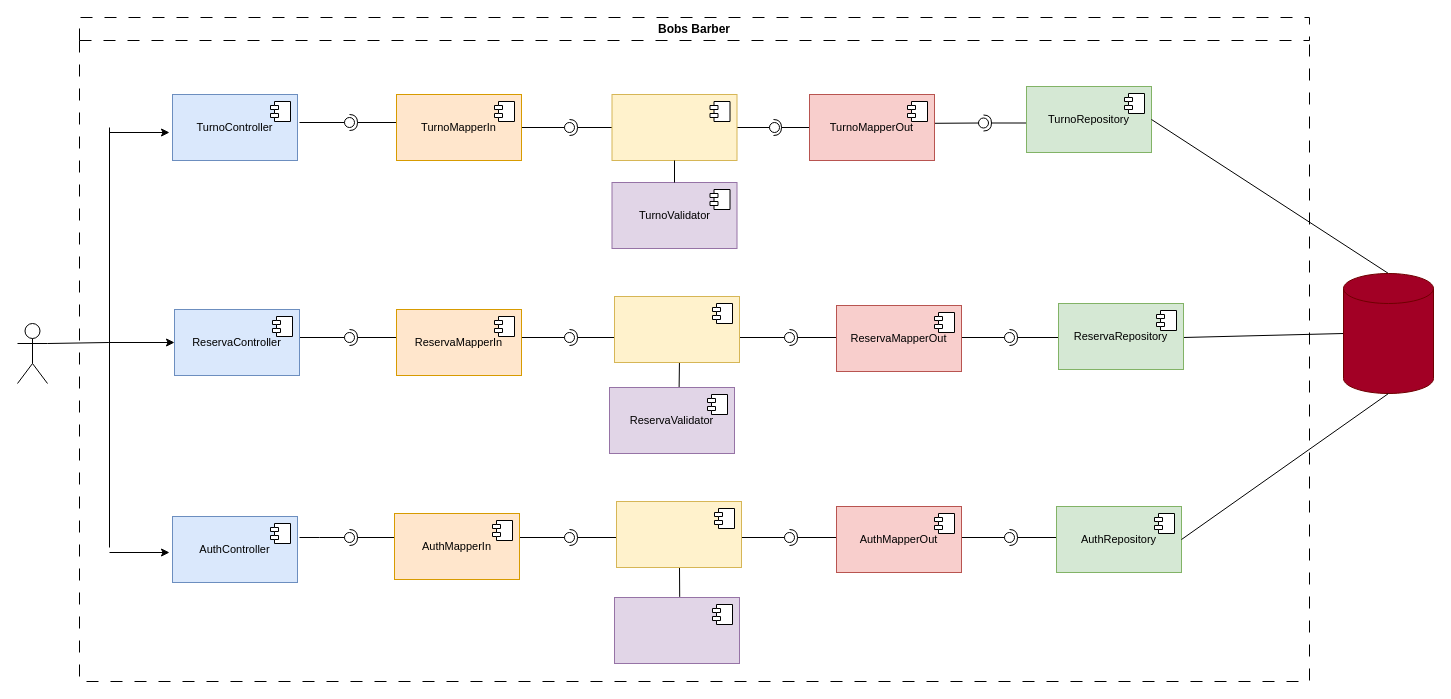
Some shapes in this 1451 by 699 pixel diagram are drawn without their labels. The shapes that lost their labels are listed below. From the top down, each one's centre as x and y in pixels, then its label:
At (x=674, y=127): "TurnoService".
At (x=677, y=329): "ReservaService".
At (x=1388, y=333): "MongoDB".
At (x=32, y=353): "Actor".
At (x=679, y=534): "Auth Service".
At (x=677, y=630): "Auth Validator".
